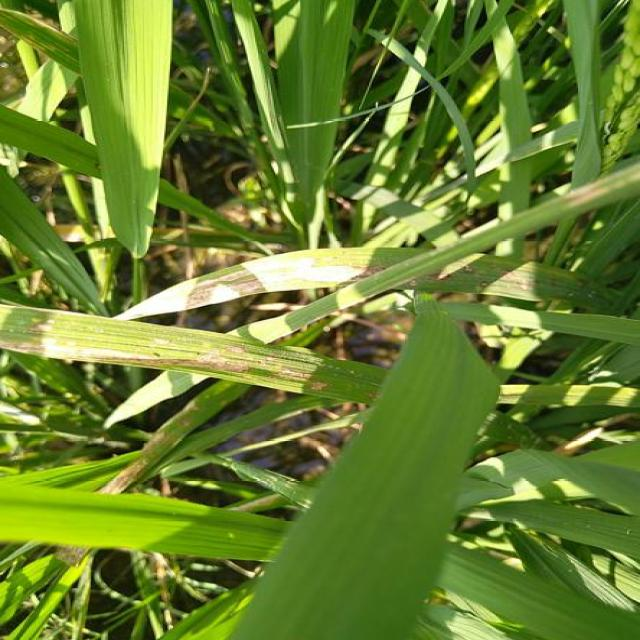Leaf Streak: (0, 304, 388, 404), (114, 248, 427, 321), (97, 381, 249, 495), (397, 254, 630, 319), (554, 159, 640, 212), (50, 546, 88, 563)
